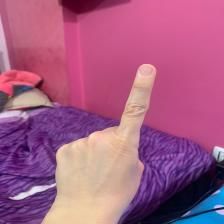one: (57, 64, 157, 217)
